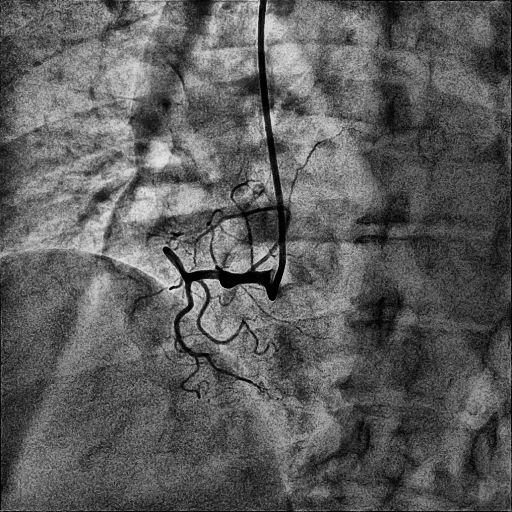rca: (175, 269, 270, 388)
